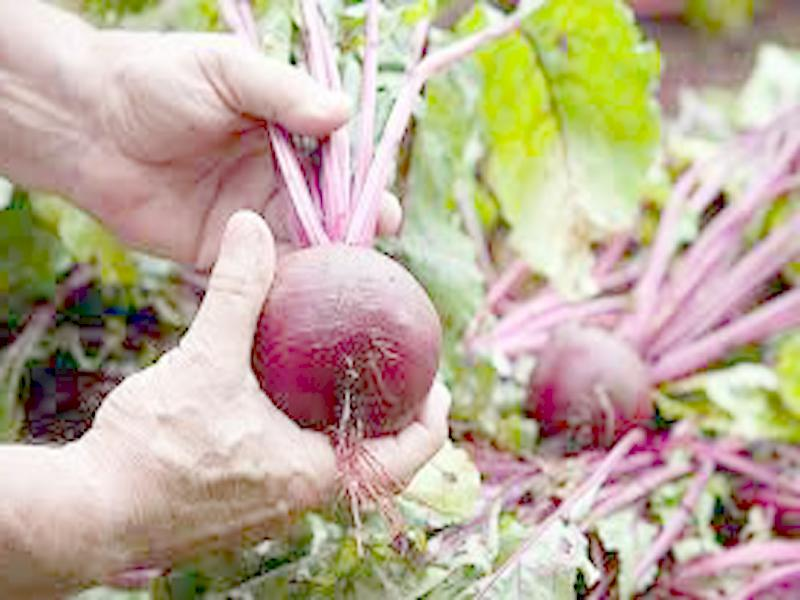Beet: (246, 3, 546, 439)
